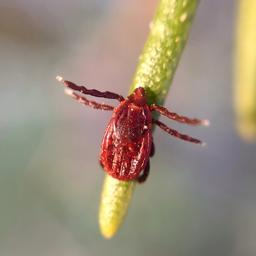Rhipicephalus sanguineus: (55, 76, 210, 184)
